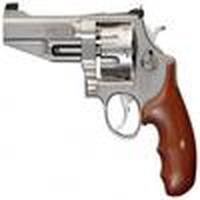gun: (1, 9, 200, 159)
